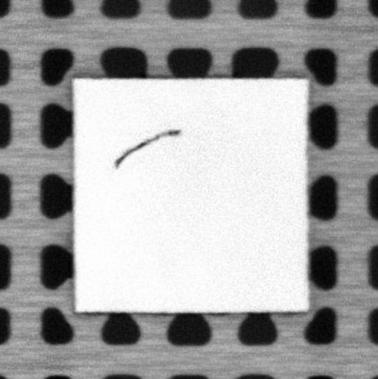DIE_INK: (113, 127, 183, 169)
